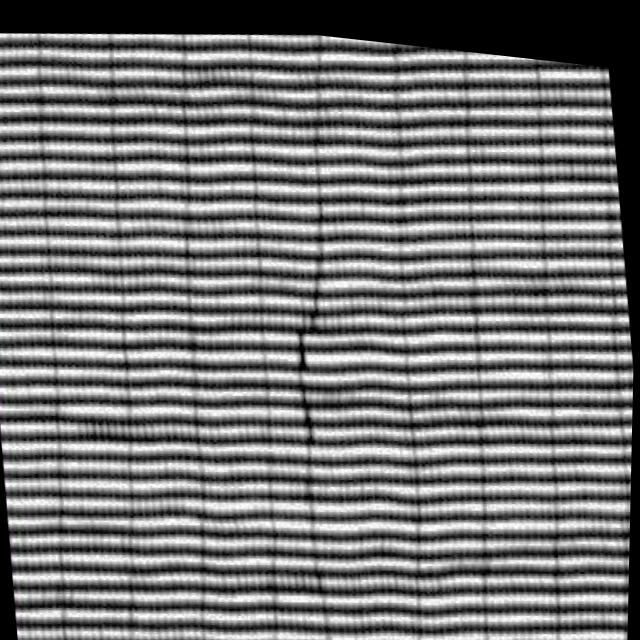Stitch: (249, 196, 380, 515)
